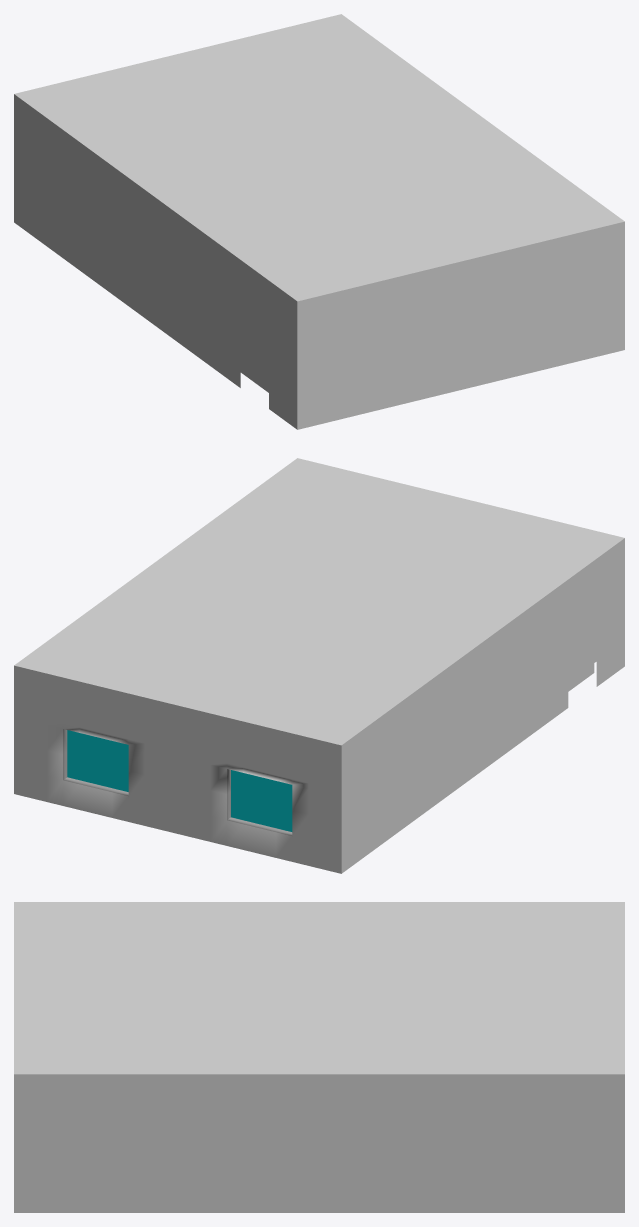
The model's file is Raum.fbx.
The picture shows the model from 3 angles, top to bottom: view 1: azimuth 30°, elevation 25°; view 2: azimuth 150°, elevation 25°; view 3: azimuth 270°, elevation 25°; orthographic projection. The views are drawn at different scales.
Visible parts, largest first — view 1: pPlane2; view 2: pPlane2; view 3: pPlane2.
Boxes of the visible parts, left/top/right/bottom form: pPlane2: left=14, top=14, right=624, bottom=429; pPlane2: left=14, top=458, right=624, bottom=873; pPlane2: left=14, top=902, right=624, bottom=1212.
Bounding box in the file's own units: 13.34 × 5 × 20.
